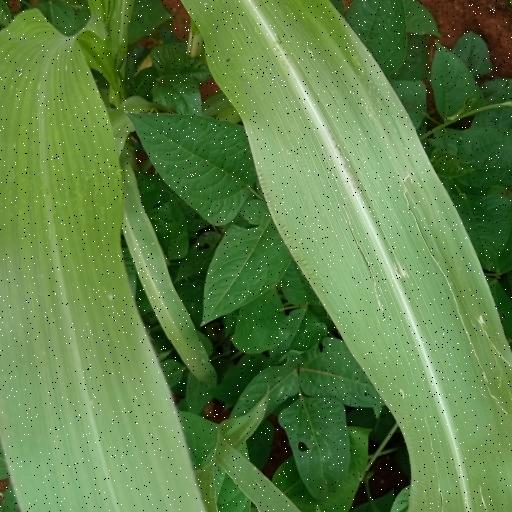Corn_Brown_Spots: (194, 2, 512, 512), (0, 12, 186, 506)
